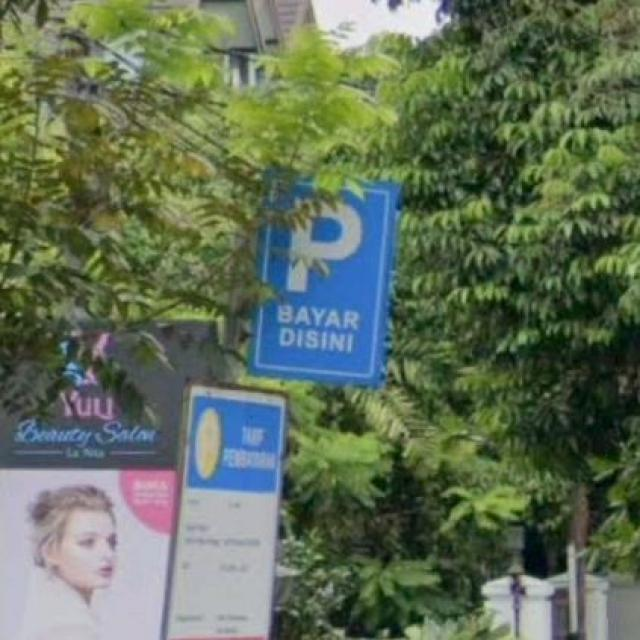traffic sign: (270, 181, 397, 388)
